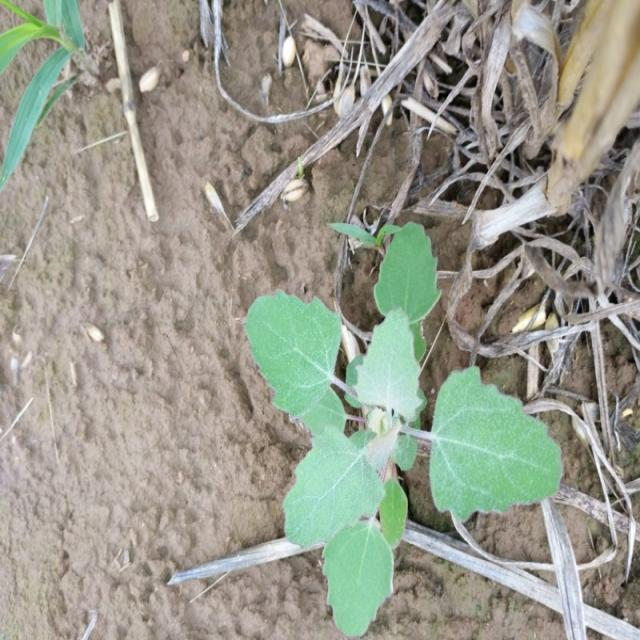goosefoots: (240, 249, 555, 627)
